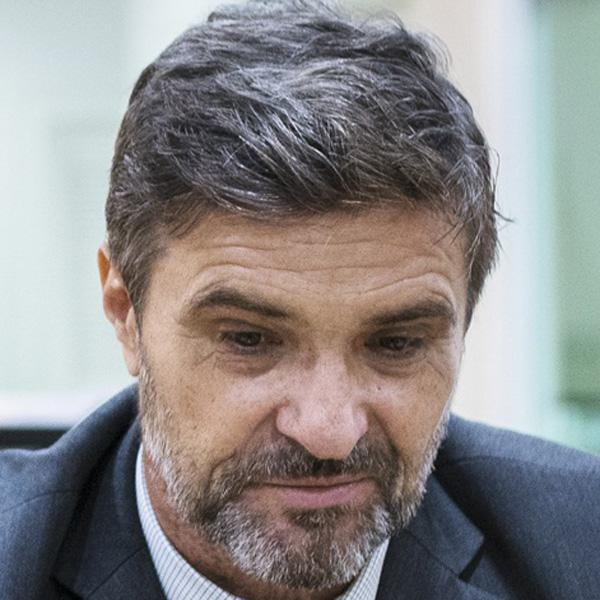Eyes: (203, 309, 287, 359), (360, 321, 439, 366)
